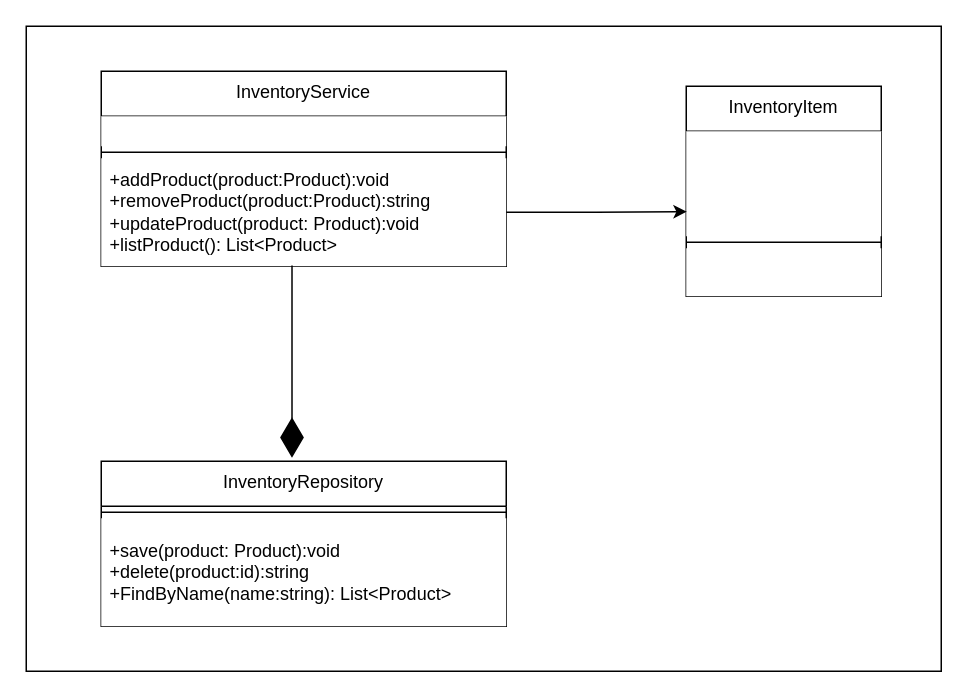
Some shapes in this 968 by 698 pixel diagram are drawn without their labels. The shapes that lost their labels are listed below. From the top down, each one's centre as x and y in pixels, then its label:
At pixel 303 131: "+inventoryrepository: Inventory Repository".
At pixel 783 183: "+name:string +quantity:int +price: float +unit:string".
At pixel 783 272: "+getDetails():void".
